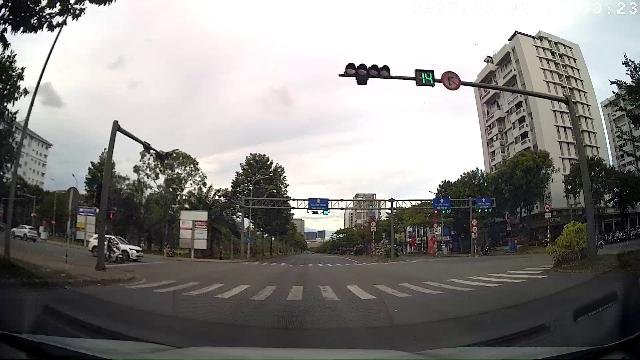123b-cam-re-phai: (441, 70, 462, 91)
